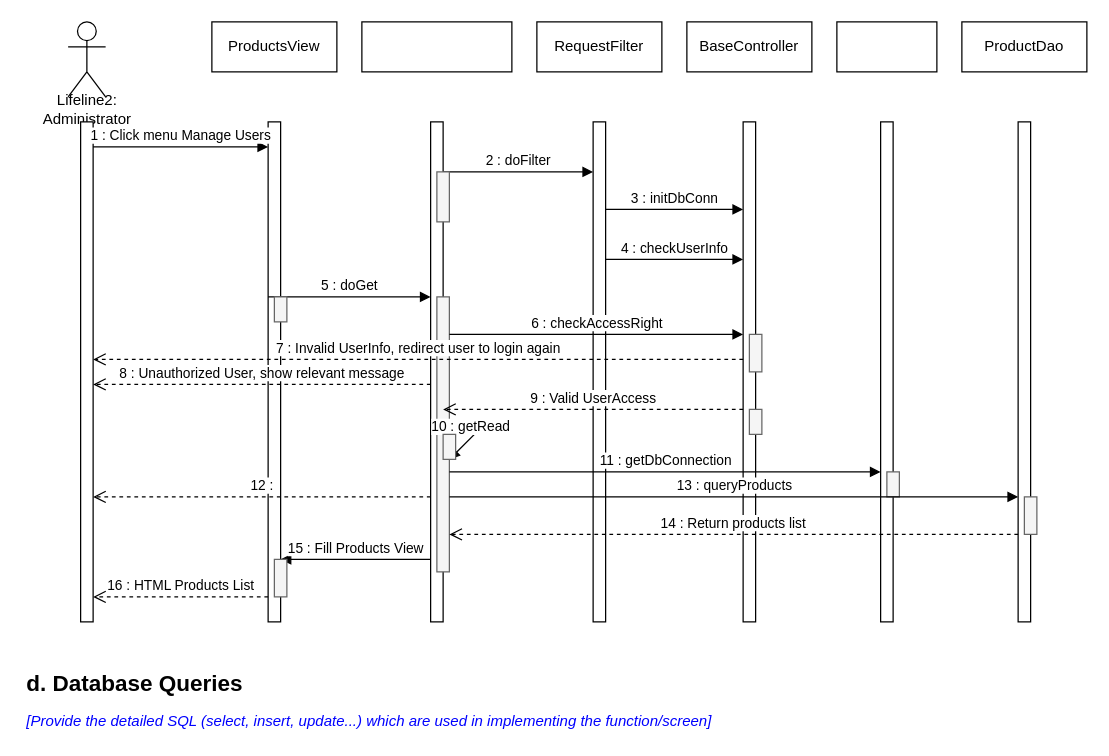
Image size: 1109x756. Some labels were removed from this diagram. Here are the shapes that lost their labels. From the top down, the centre of each, then its label:
At point 436,46: "ProductController".
At point 886,46: "MyUtils".
